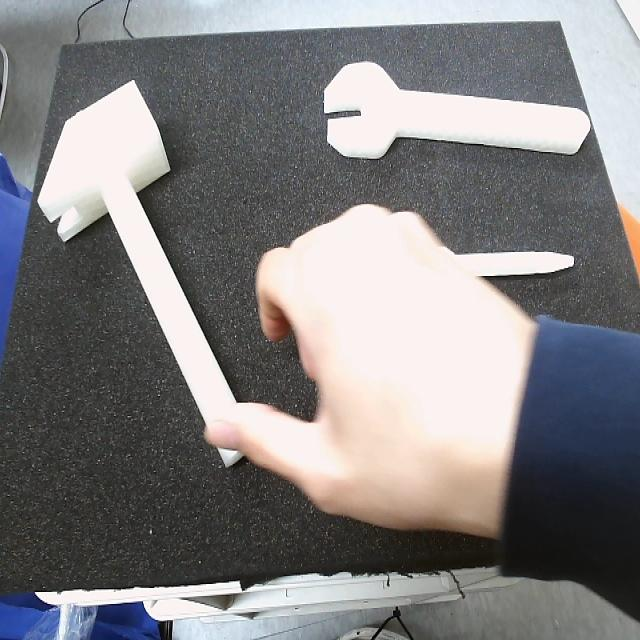Spanner: (320, 61, 593, 161)
